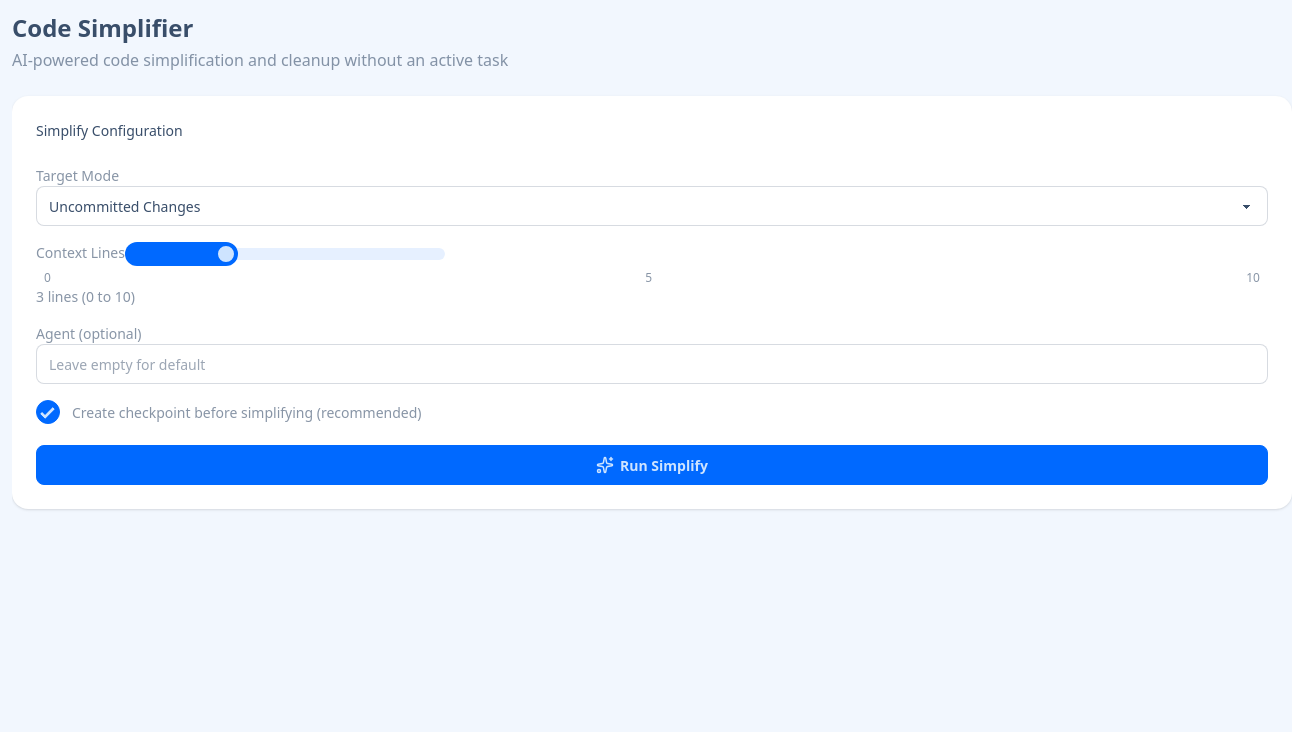
Test case: Simplify page › shows branch input when branch mode is selected
Select "Branch Comparison" in the dropdown: coordinates (652, 206) [36,186,1268,226]
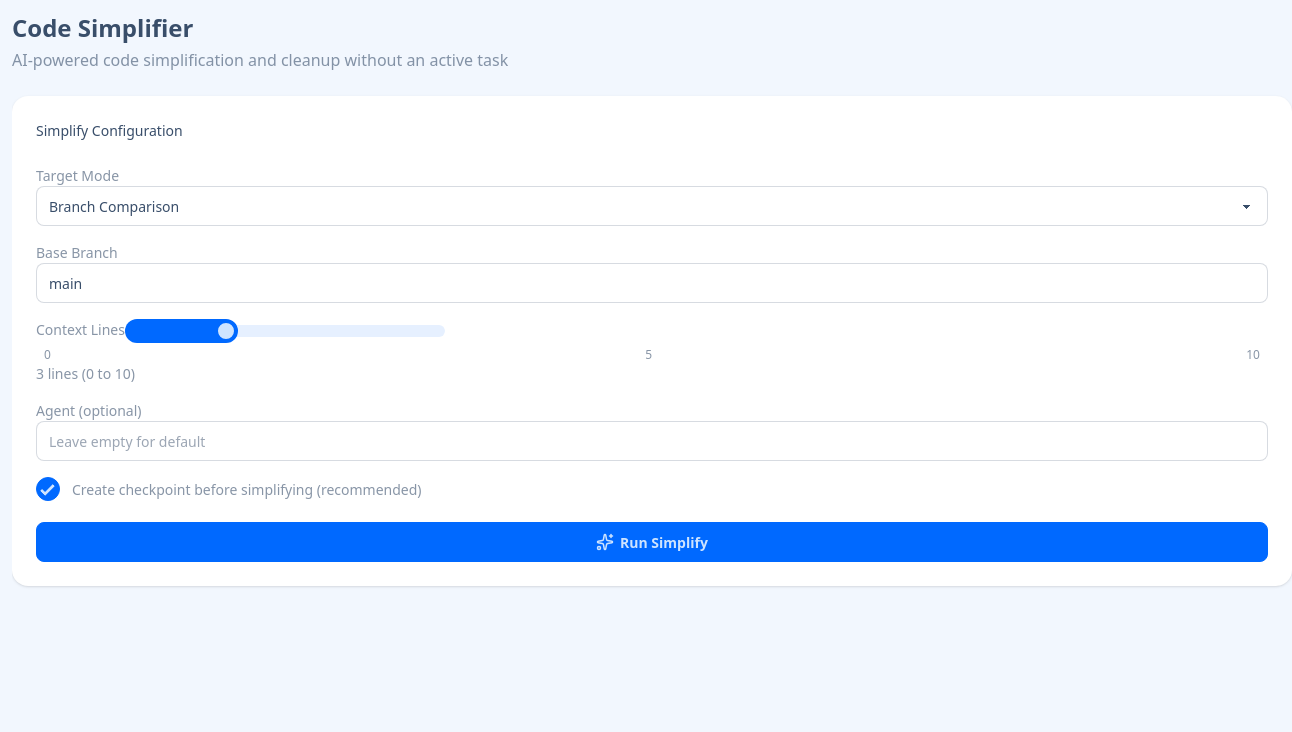
Expected: the field with placeholder "main" is shown, [36,263,1268,303]
